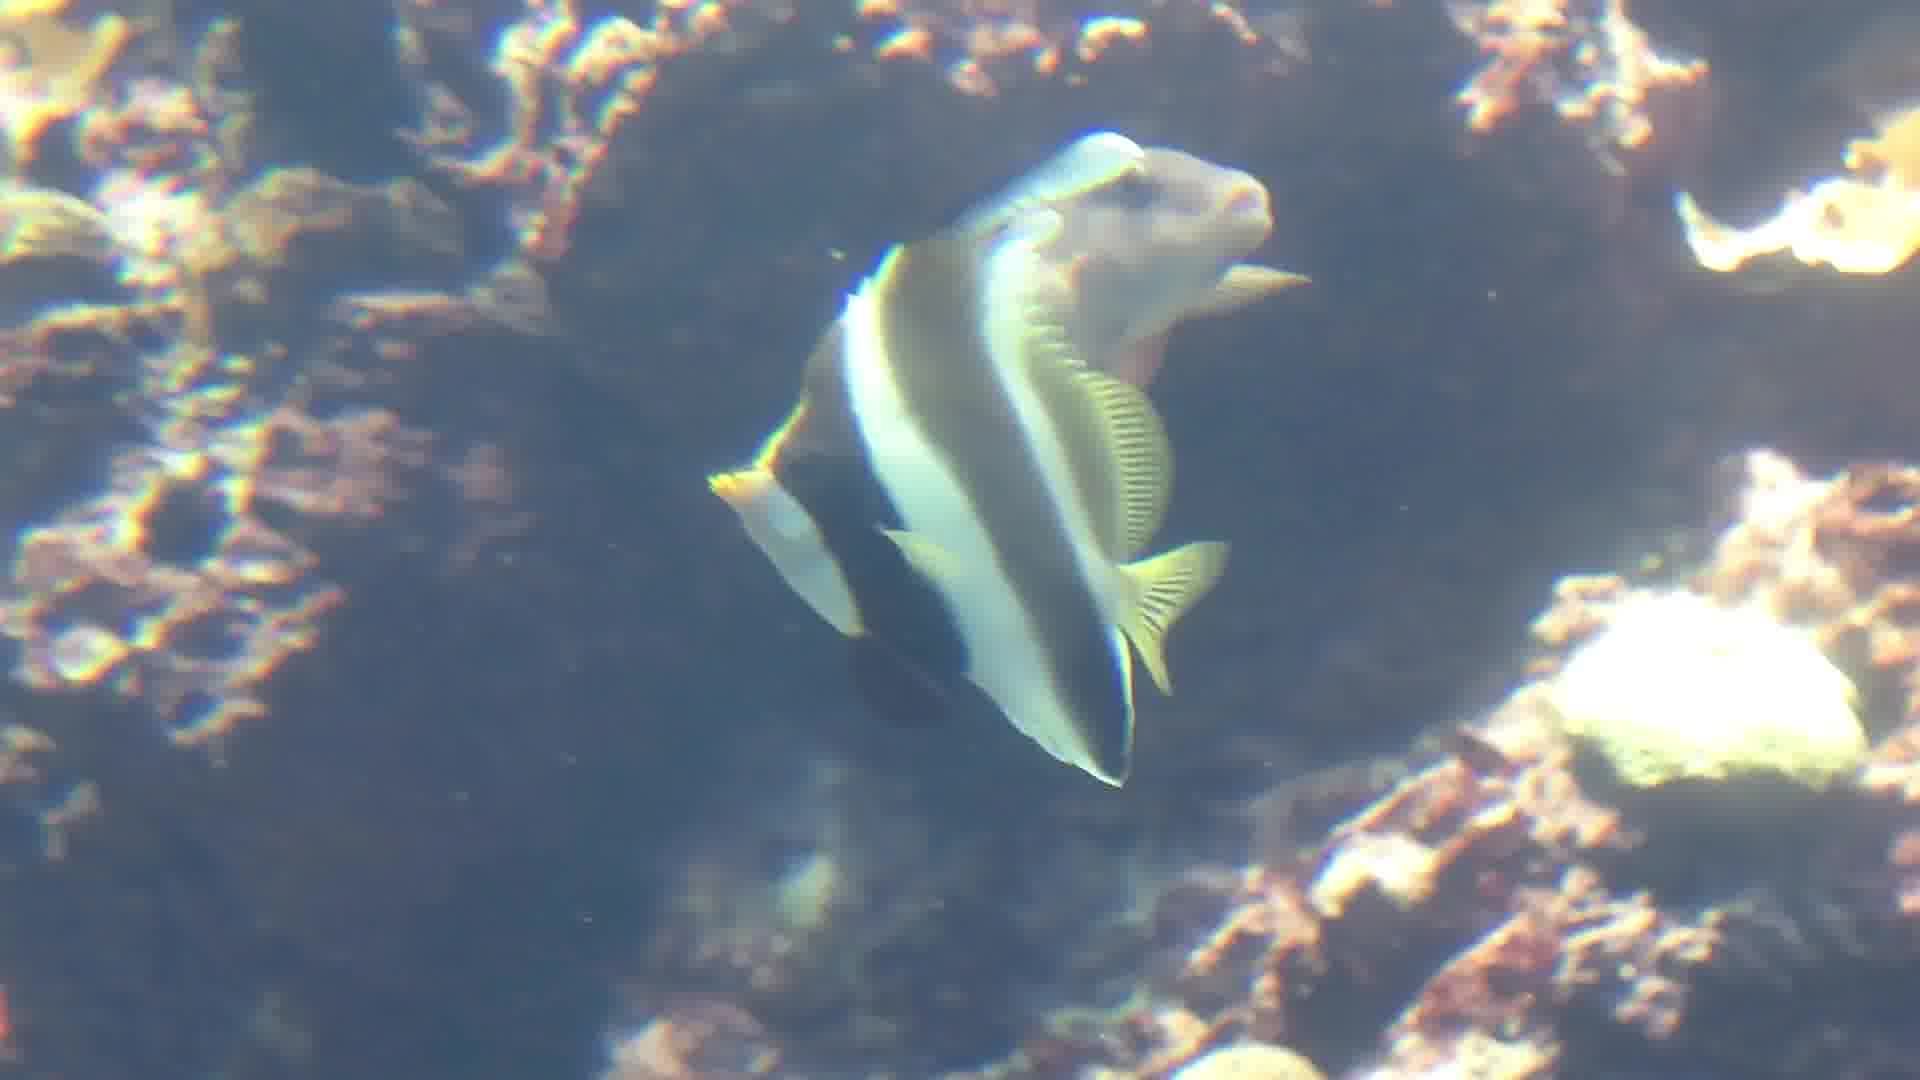Heniochus chrysostomus: (636, 107, 1302, 804)
